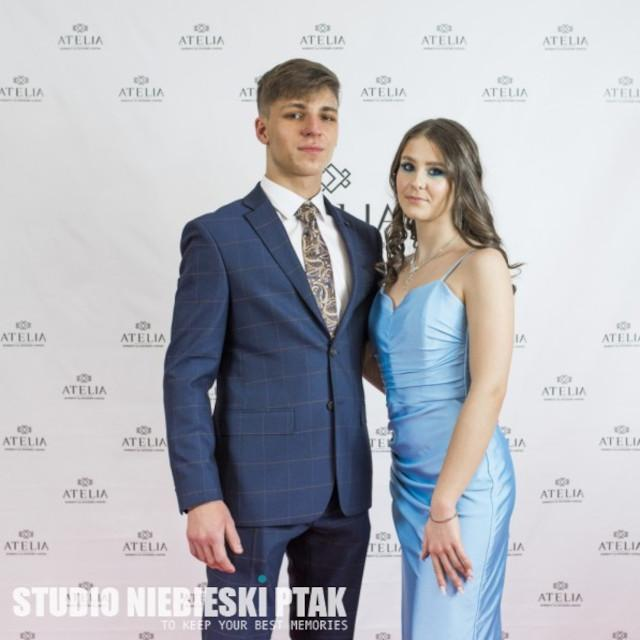kobieta: (371, 117, 518, 640)
mezczyzna: (165, 56, 369, 638)
